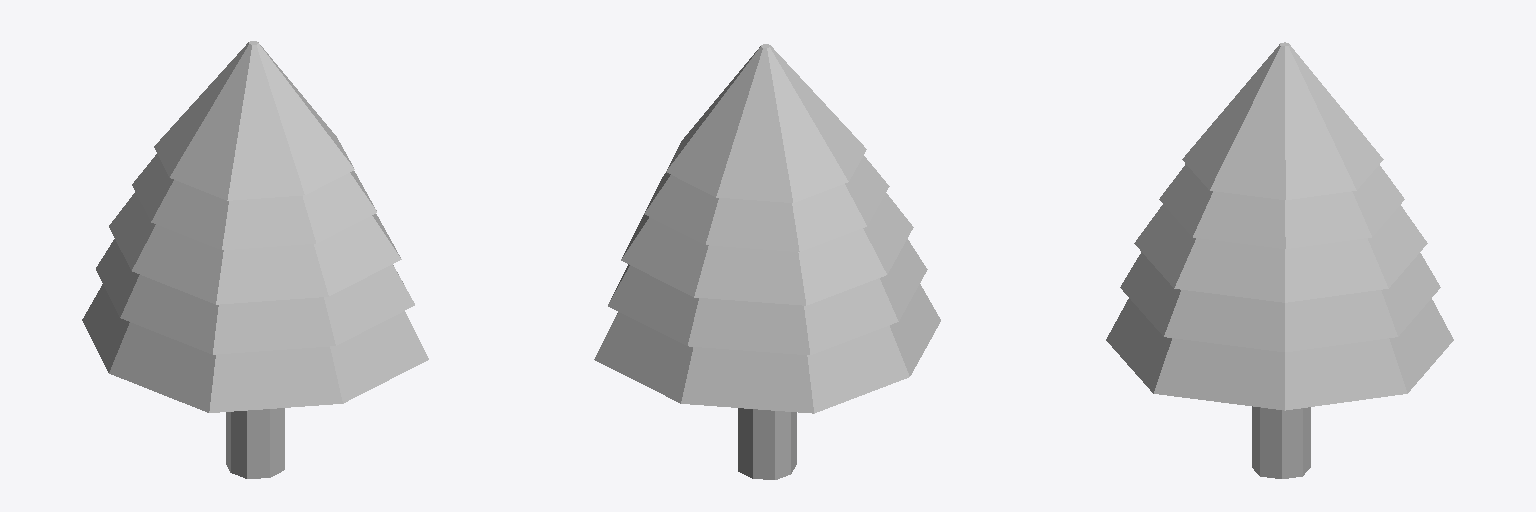
Rendered from Wallpaper.obj.
3 renders of one model, left to right at view 1: azimuth 30°, elevation 25°; view 2: azimuth 150°, elevation 25°; view 3: azimuth 270°, elevation 25°, orthographic.
Visible parts, largest first — view 1: Cube; view 2: Cube; view 3: Cube.
Part boxes in pixels (x1,y1,x2,y2): Cube: (82, 41, 428, 478); Cube: (594, 44, 940, 479); Cube: (1106, 42, 1453, 478).
Bounding box in the file's own units: 3.92 × 5.48 × 4.09.